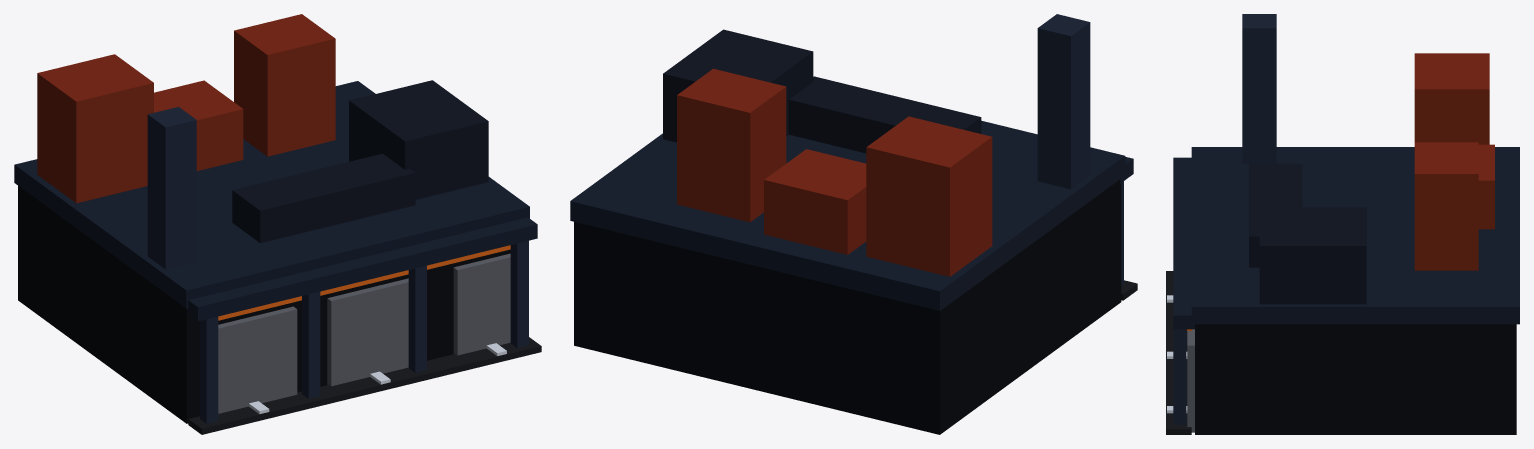
Rendered from works3.obj.
3 renders of one model, left to right at view 1: azimuth 30°, elevation 25°; view 2: azimuth 150°, elevation 25°; view 3: azimuth 270°, elevation 25°, orthographic. The views are drawn at different scales.
Visible parts, largest first — view 1: pallets, roof, shed, roof-plant, dock-doors, loading-canopy, canopy-posts, stack, apron, dock-light, bay-markings; view 2: shed, pallets, roof, roof-plant, stack; view 3: roof, shed, pallets, roof-plant, stack, loading-canopy, apron, canopy-posts, dock-doors.
Part boxes in pixels (x1=…): pallets: x1=37, y1=14, x2=335, y2=203; roof: x1=14, y1=81, x2=529, y2=308; shed: x1=18, y1=186, x2=510, y2=423; roof-plant: x1=232, y1=80, x2=488, y2=242; dock-doors: x1=218, y1=253, x2=510, y2=413; loading-canopy: x1=185, y1=217, x2=537, y2=321; canopy-posts: x1=200, y1=240, x2=528, y2=423; stack: x1=147, y1=107, x2=196, y2=269; apron: x1=188, y1=337, x2=541, y2=434; dock-light: x1=218, y1=245, x2=510, y2=320; bay-markings: x1=249, y1=343, x2=506, y2=414; shed: x1=574, y1=179, x2=1121, y2=434; pallets: x1=677, y1=68, x2=992, y2=276; roof: x1=570, y1=120, x2=1125, y2=310; roof-plant: x1=663, y1=29, x2=981, y2=153; stack: x1=1037, y1=14, x2=1090, y2=189; roof: x1=1191, y1=147, x2=1519, y2=324; shed: x1=1195, y1=324, x2=1516, y2=434; pallets: x1=1414, y1=53, x2=1494, y2=270; roof-plant: x1=1249, y1=164, x2=1366, y2=304; stack: x1=1242, y1=14, x2=1276, y2=163; loading-canopy: x1=1173, y1=157, x2=1196, y2=329; apron: x1=1166, y1=271, x2=1191, y2=434; canopy-posts: x1=1173, y1=329, x2=1186, y2=424; dock-doors: x1=1187, y1=329, x2=1194, y2=432.
Bounding box in the file's own units: 3.54 × 2.73 × 3.31.
